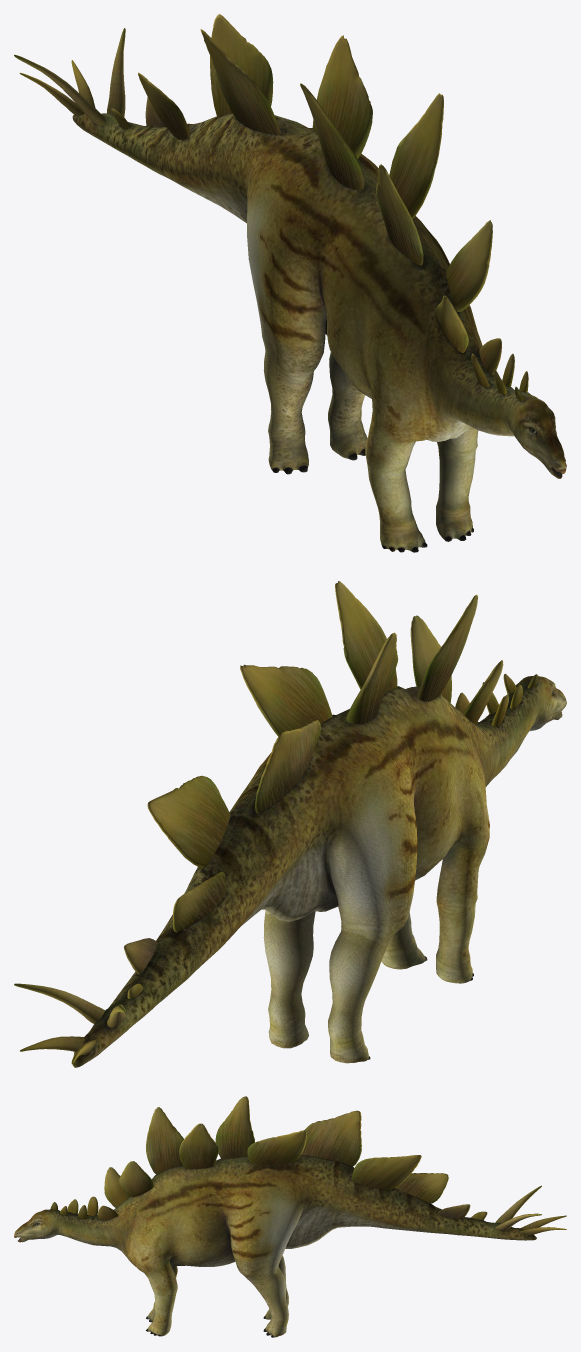
Rendered from Stegosaurus.obj.
3 renders of one model, top to bottom at view 1: azimuth 30°, elevation 25°; view 2: azimuth 150°, elevation 25°; view 3: azimuth 270°, elevation 25°, orthographic. The views are drawn at different scales.
Parts seen in each view (by area): view 1: Body; view 2: Body; view 3: Body.
Boxes of the visible parts, box(x1,y1,x2,y2) form: Body: box(14, 14, 566, 552); Body: box(14, 581, 566, 1067); Body: box(14, 1096, 566, 1337).
Bounding box in the file's own units: 4.31 × 11.98 × 27.53.
Materials: 2 (2 with a texture image).
